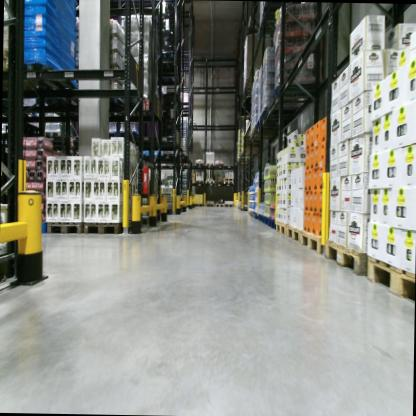pallet: (6, 46, 74, 112), (363, 250, 415, 301), (325, 230, 366, 278), (270, 76, 318, 106), (0, 249, 25, 289), (81, 218, 133, 237), (125, 94, 157, 118), (97, 91, 129, 113), (255, 20, 287, 41), (251, 112, 290, 129), (156, 49, 178, 77), (43, 220, 84, 235), (300, 230, 326, 251), (3, 49, 19, 82), (251, 124, 290, 137), (260, 109, 299, 120), (285, 224, 303, 242), (194, 162, 204, 184), (275, 220, 287, 237), (33, 221, 48, 234), (268, 218, 276, 230), (193, 201, 204, 209), (205, 199, 214, 208), (215, 201, 224, 208), (223, 177, 233, 183), (204, 160, 214, 166), (263, 215, 269, 224), (258, 213, 263, 223), (253, 210, 258, 220), (223, 180, 233, 185), (214, 162, 224, 167), (223, 202, 233, 207), (213, 180, 223, 184), (246, 209, 250, 218), (205, 180, 214, 184), (250, 209, 254, 217)
